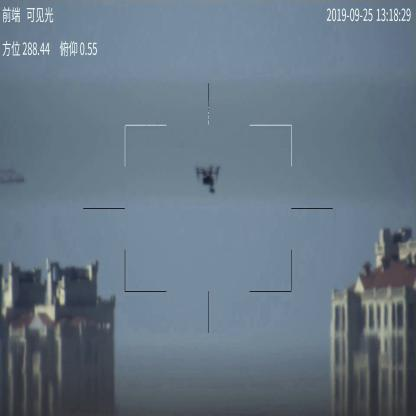uav: (192, 165, 221, 194)
